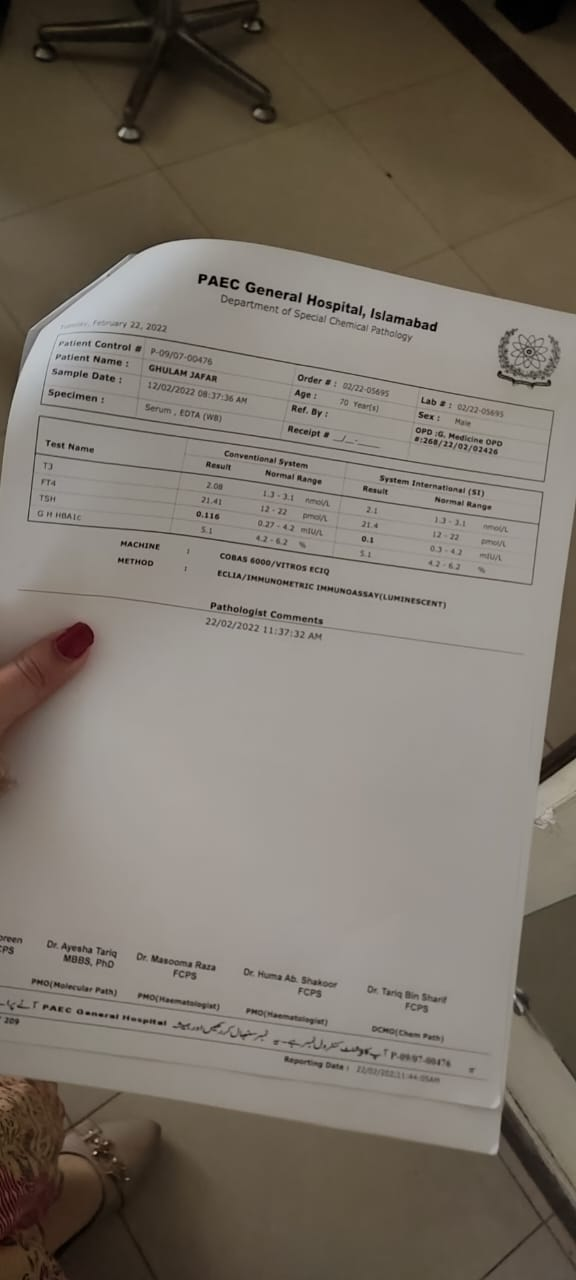report: (1, 417, 545, 586)
